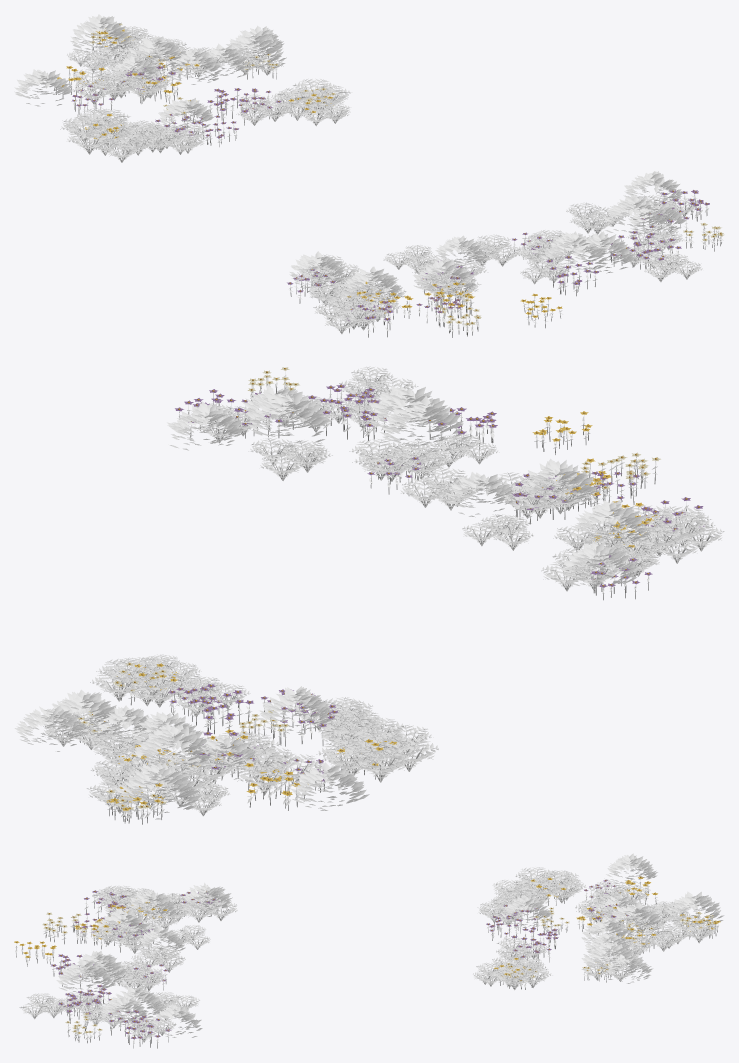
Rendered from SM_DF_Nature_1_0_Flora.fbx.
3 renders of one model, top to bottom at view 1: azimuth 30°, elevation 25°; view 2: azimuth 150°, elevation 25°; view 3: azimuth 270°, elevation 25°, orthographic. The views are drawn at different scales.
Visible parts, largest first — view 1: SM_DF_Nature_1_0_Flora; view 2: SM_DF_Nature_1_0_Flora; view 3: SM_DF_Nature_1_0_Flora.
Part boxes in pixels (box(x1,y1,x2,y2)): SM_DF_Nature_1_0_Flora: box(14, 14, 724, 337); SM_DF_Nature_1_0_Flora: box(14, 366, 724, 824); SM_DF_Nature_1_0_Flora: box(14, 853, 724, 1048).
Size of the model in its own units: 1553 by 2613 by 193.
